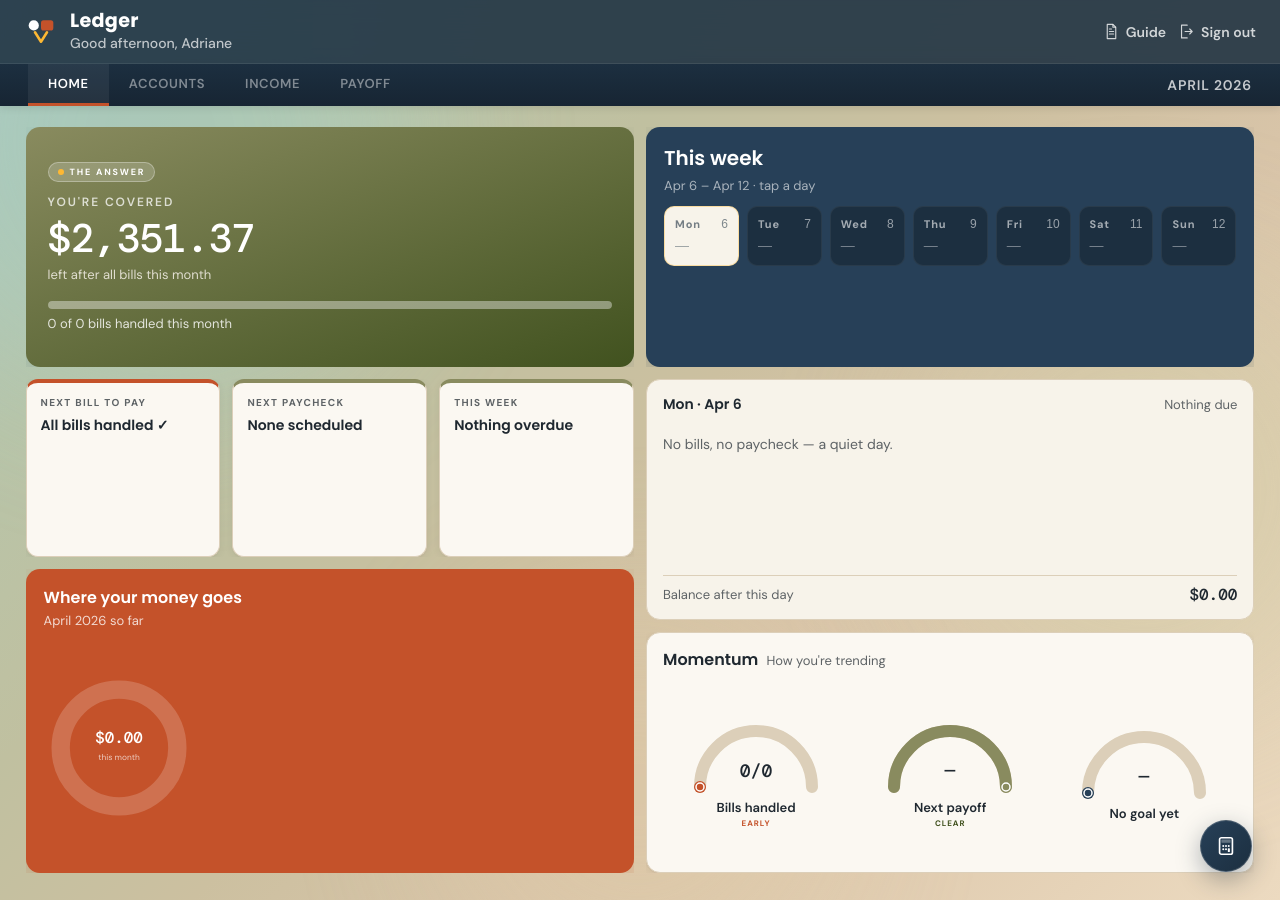
it: AppShell — tab navigation › switches to Payoff tab on click
Step 1. Click the tab "Payoff" → [366, 85], box [320,64,411,106]
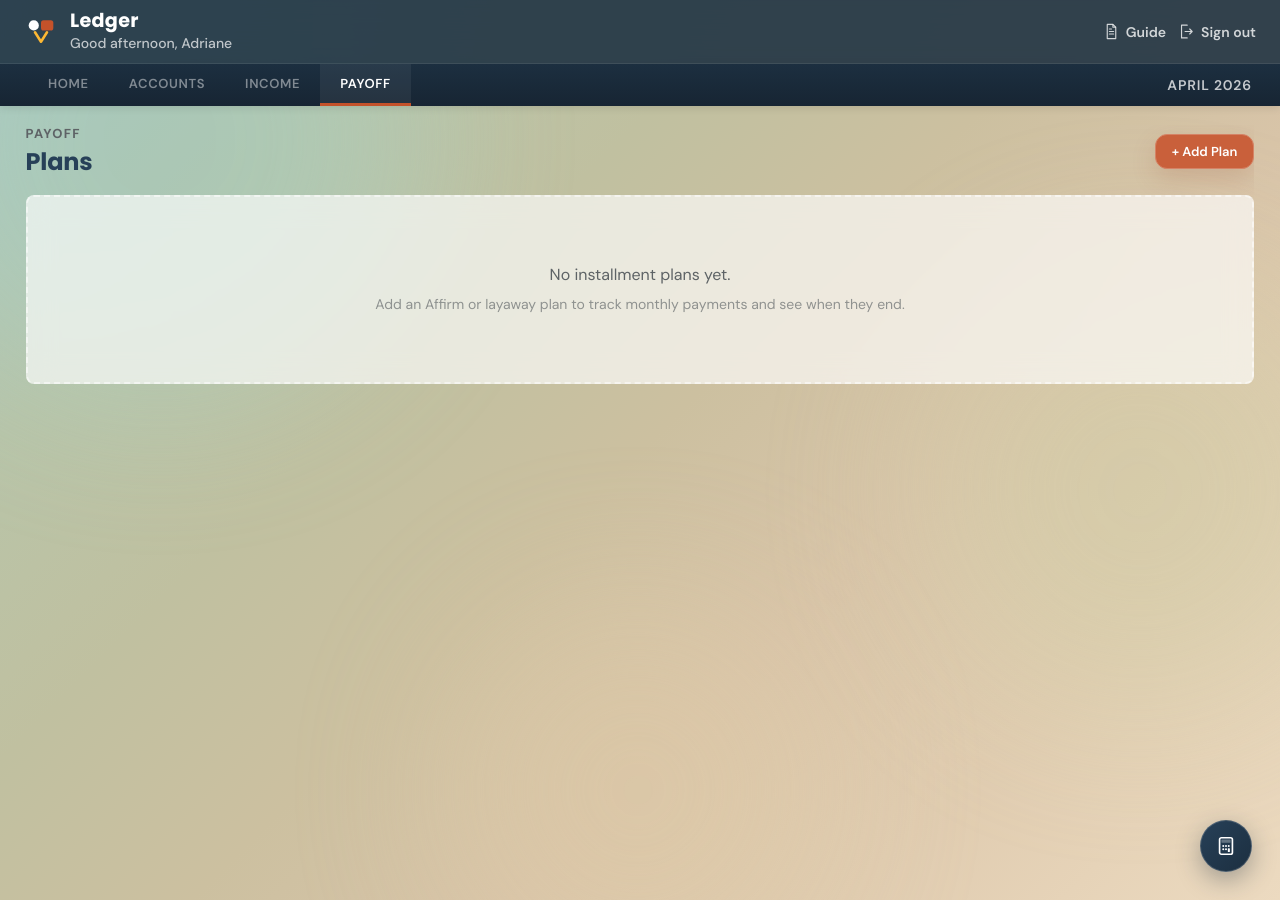
Check: the text "No installment plans yet" is shown, box [550,264,730,285]
